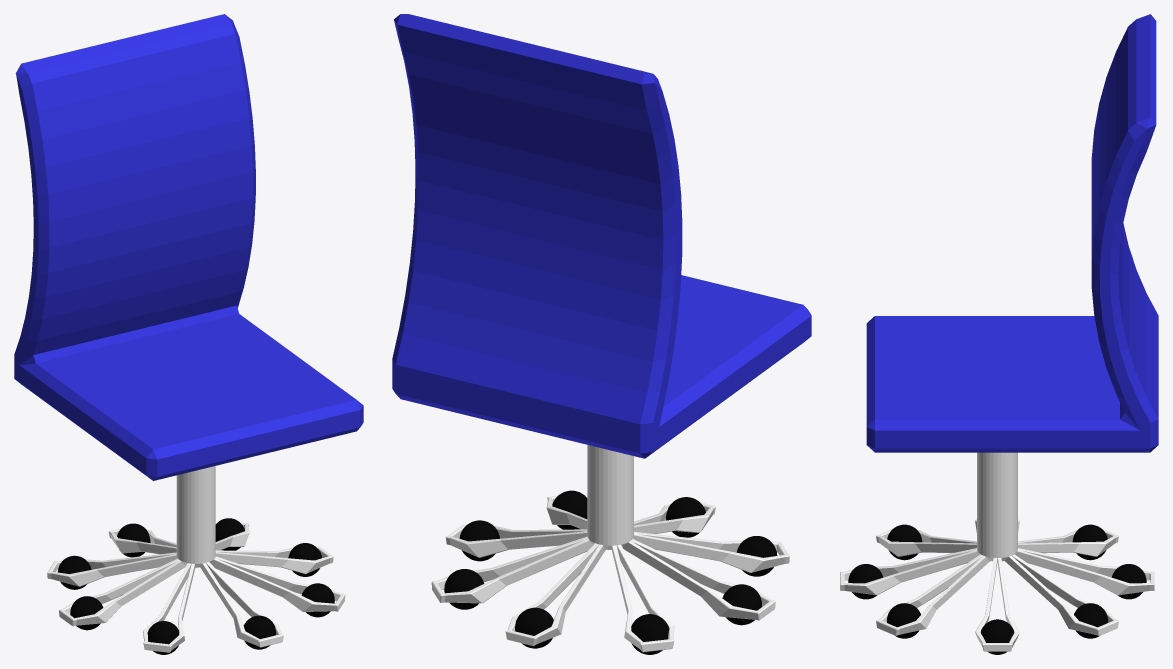
File: Chair.fbx
The picture shows the model from 3 angles, left to right: view 1: azimuth 30°, elevation 25°; view 2: azimuth 150°, elevation 25°; view 3: azimuth 270°, elevation 25°; orthographic projection. The views are drawn at different scales.
Parts seen in each view (by area): view 1: chair; view 2: chair; view 3: chair.
Part boxes in pixels (x1,y1,x2,y2): chair: (14, 14, 363, 654); chair: (392, 14, 811, 654); chair: (840, 14, 1158, 654).
Bounding box in the file's own units: 2.4 × 2.43 × 4.48.
